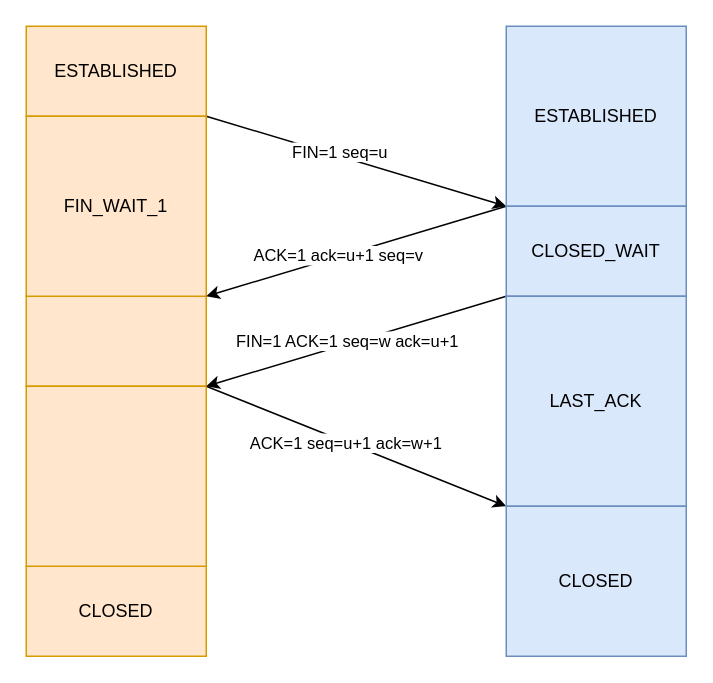
The diagram is 713 pixels wide and 683 high, and some of its shapes have lost their labels. Here are the shapes that lost their labels. From the top down, the centre of each, then its label:
the point at 115,340: FIN_WAIT_2
the point at 115,475: TIME_WAIT (等待2MSL)
